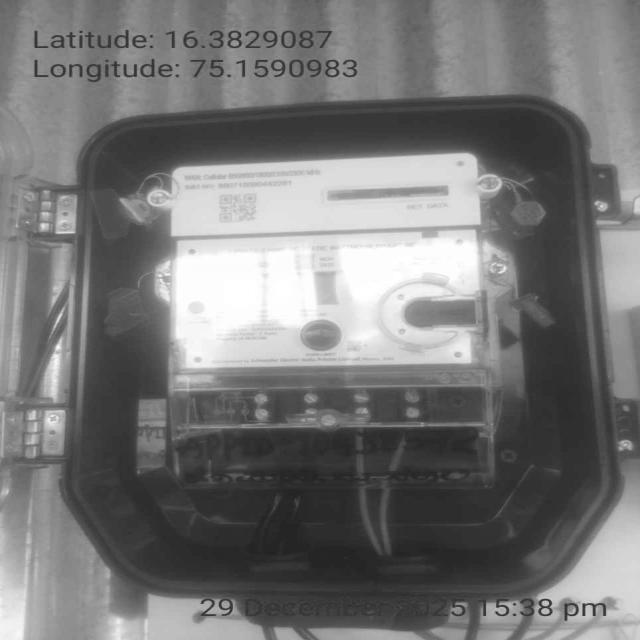meter: (166, 155, 488, 368)
